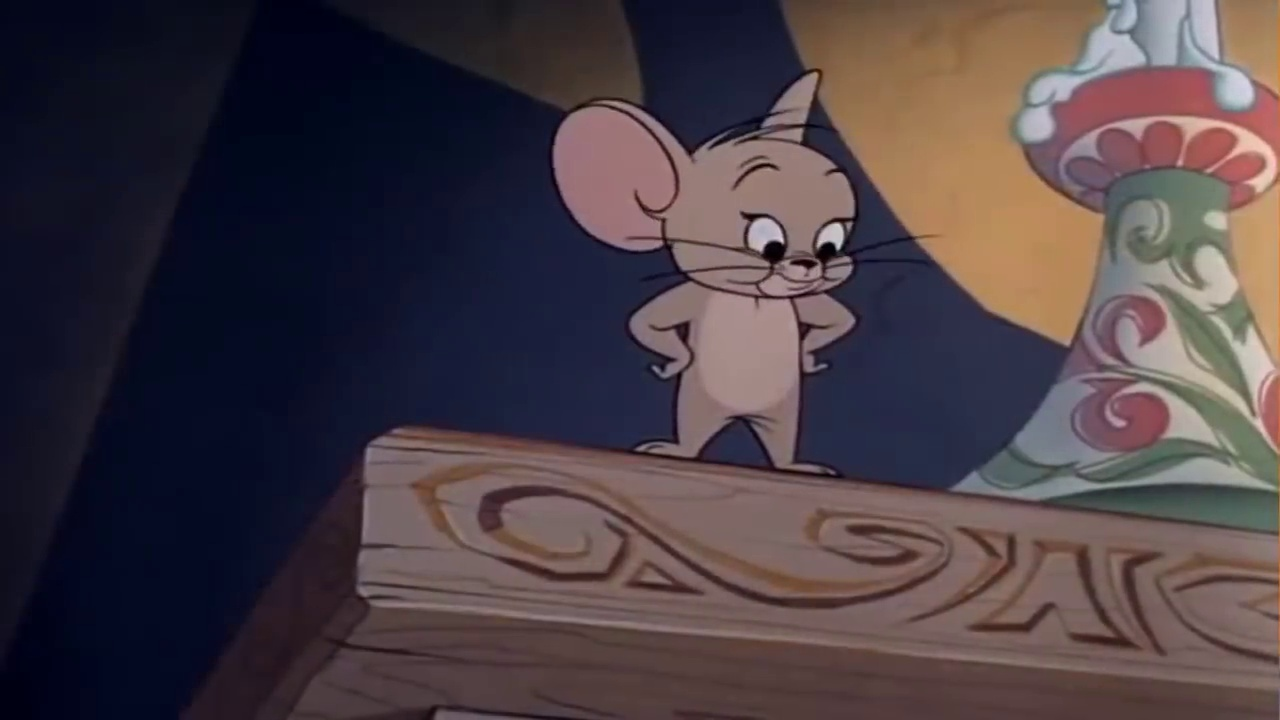face: (723, 149, 857, 300)
